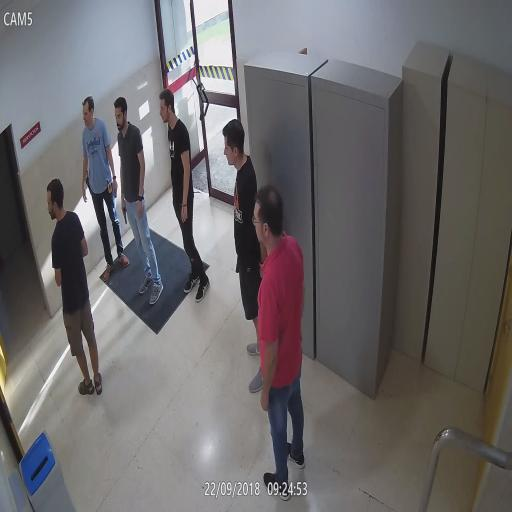Handgun: (84, 168, 91, 198), (120, 198, 128, 224), (234, 250, 239, 274)
